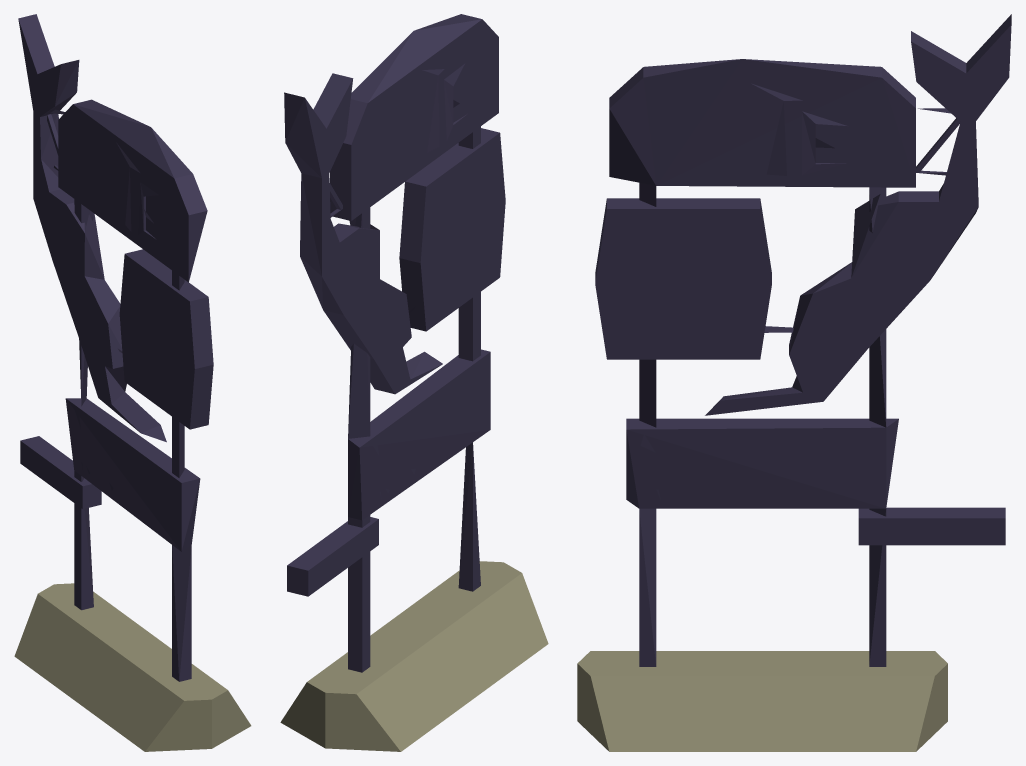
The model's file is motel-sign.lod2.glb.
3 renders of one model, left to right at view 1: azimuth 30°, elevation 25°; view 2: azimuth 150°, elevation 25°; view 3: azimuth 270°, elevation 25°, orthographic. The views are drawn at different scales.
Visible parts, largest first — view 1: Object_16; view 2: Object_16; view 3: Object_16.
Part boxes in pixels (x1,y1,x2,y2): Object_16: [14, 14, 251, 751]; Object_16: [280, 14, 548, 751]; Object_16: [577, 14, 1011, 751].
Bounding box in the file's own units: 2.07 × 11.09 × 6.21.
